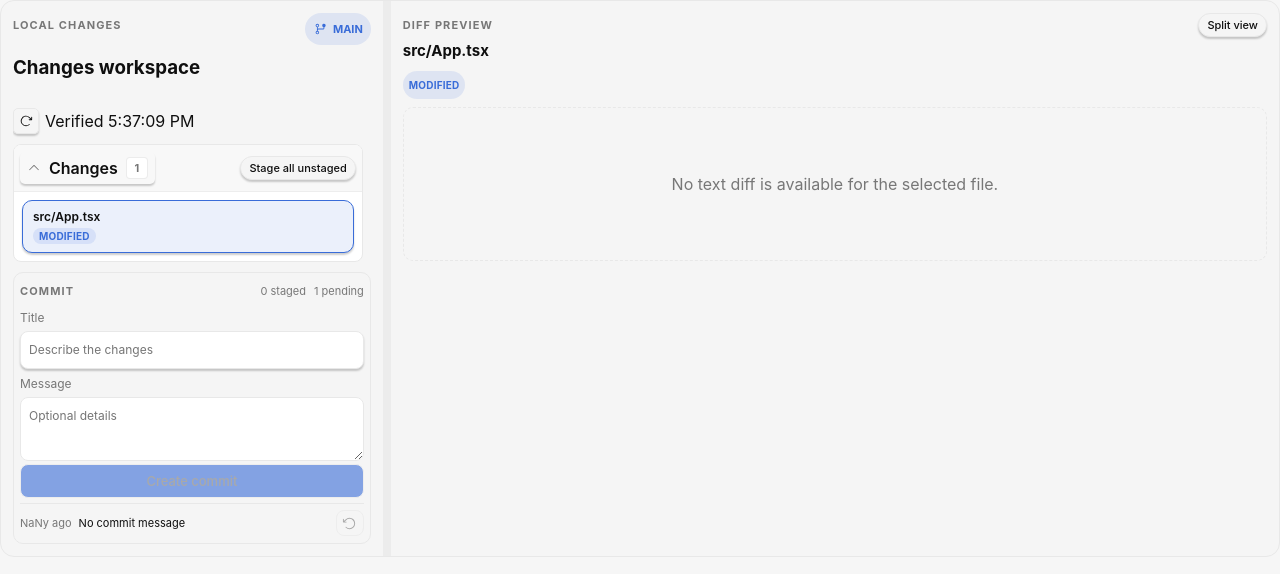
Test case: RepositoryDetailChangesTab › renders grouped changes, commits, and preserves the stage action when a group is collapsed
The width and height of the screenshot is (1280, 574).
Expected: the text "src/App.tsx" is shown, [33, 209, 100, 224]
Expected: the button "Stage all unstaged" is shown, [240, 156, 356, 180]
Click the button "Changes 1" at (87, 168), box [20, 152, 155, 184]
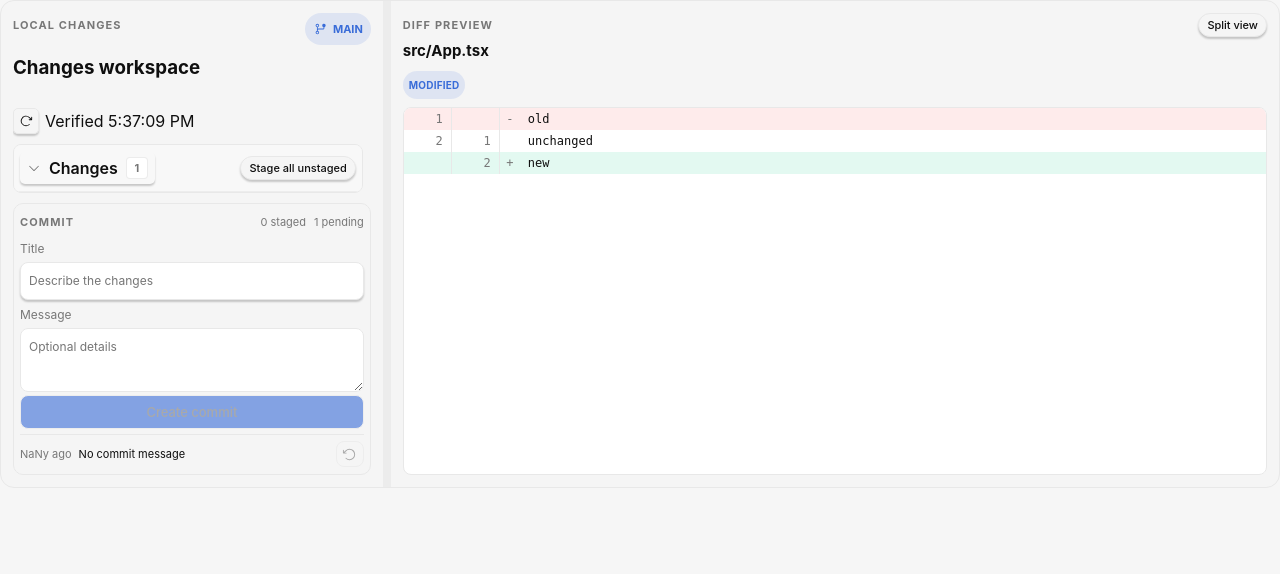
Expected: the button "Stage all unstaged" is shown, [240, 156, 356, 180]
Expected: the button "Changes 1" is collapsed, [20, 152, 155, 184]
